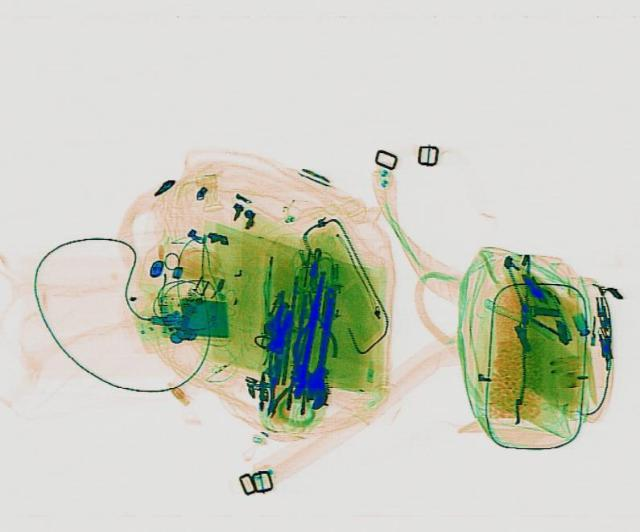Wrench: (300, 285, 340, 408)
